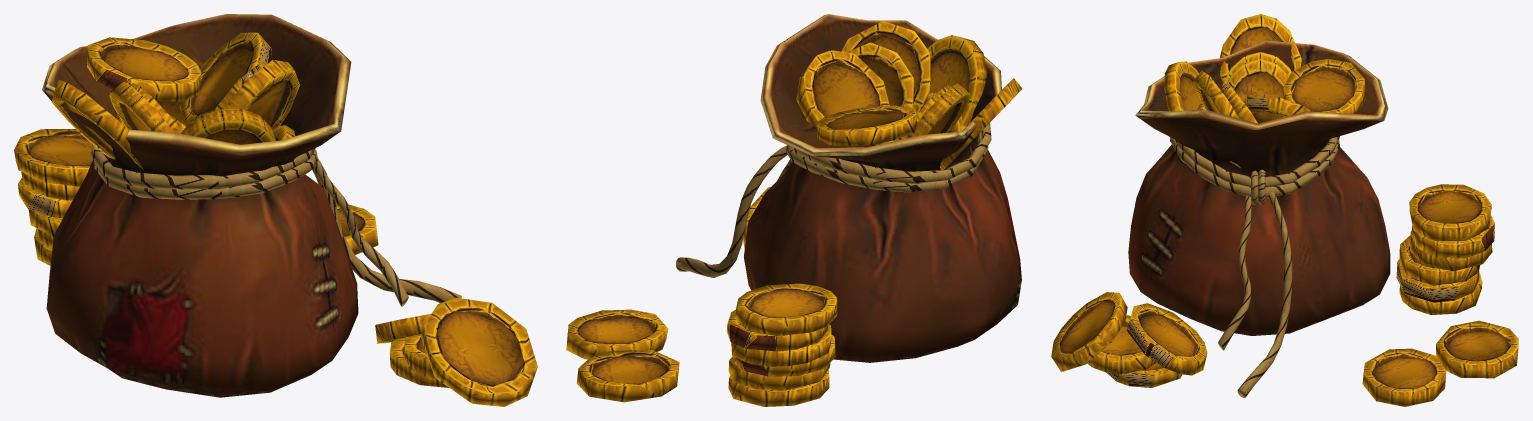
Rendered from money beg 3.fbx.
The picture shows the model from 3 angles, left to right: view 1: azimuth 30°, elevation 25°; view 2: azimuth 150°, elevation 25°; view 3: azimuth 270°, elevation 25°; orthographic projection. The views are drawn at different scales.
Parts seen in each view (by area): view 1: Sack_low_lambert2_0, Coinbasic_low12_lambert2_0, Rope1_low_lambert2_0, Rope1_low1_lambert2_0, Coinbasic_low4_lambert2_0, Rope4_low_lambert2_0, Coinbasic_low1_lambert2_0, Rope3_low_lambert2_0; view 2: Sack_low_lambert2_0, Coinbasic_low12_lambert2_0, Coinbasic_low4_lambert2_0, Rope1_low_lambert2_0, Rope4_low_lambert2_0, Rope1_low1_lambert2_0, Coinbasic_low1_lambert2_0; view 3: Sack_low_lambert2_0, Coinbasic_low12_lambert2_0, Rope4_low_lambert2_0, Rope1_low_lambert2_0, Rope1_low1_lambert2_0, Coinbasic_low4_lambert2_0, Rope3_low_lambert2_0, Coinbasic_low1_lambert2_0.
Boxes of the visible parts, x1,y1,x2,y2 form: Sack_low_lambert2_0: (42, 14, 358, 397); Coinbasic_low12_lambert2_0: (14, 32, 537, 406); Rope1_low_lambert2_0: (91, 144, 314, 189); Rope1_low1_lambert2_0: (94, 149, 317, 199); Coinbasic_low4_lambert2_0: (181, 108, 275, 144); Rope4_low_lambert2_0: (312, 158, 461, 303); Coinbasic_low1_lambert2_0: (109, 81, 174, 132); Rope3_low_lambert2_0: (313, 161, 408, 306); Sack_low_lambert2_0: (744, 14, 1021, 362); Coinbasic_low12_lambert2_0: (566, 21, 1022, 406); Coinbasic_low4_lambert2_0: (927, 35, 987, 124); Rope1_low_lambert2_0: (792, 123, 991, 184); Rope4_low_lambert2_0: (676, 145, 787, 277); Rope1_low1_lambert2_0: (785, 132, 988, 192); Coinbasic_low1_lambert2_0: (906, 83, 970, 138); Sack_low_lambert2_0: (1128, 40, 1390, 335); Coinbasic_low12_lambert2_0: (1051, 14, 1518, 406); Rope4_low_lambert2_0: (1237, 186, 1292, 397); Rope1_low_lambert2_0: (1174, 136, 1339, 187); Rope1_low1_lambert2_0: (1170, 137, 1339, 197); Coinbasic_low4_lambert2_0: (1164, 61, 1202, 111); Rope3_low_lambert2_0: (1218, 195, 1251, 350); Coinbasic_low1_lambert2_0: (1222, 52, 1291, 86).
Bounding box in the file's own units: 91.52 × 68.06 × 117.
Materials: 1 (1 with a texture image).
